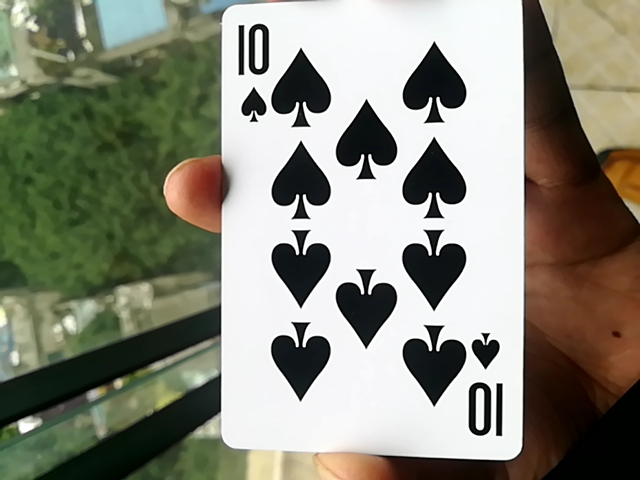ht 10: (206, 14, 531, 468)
